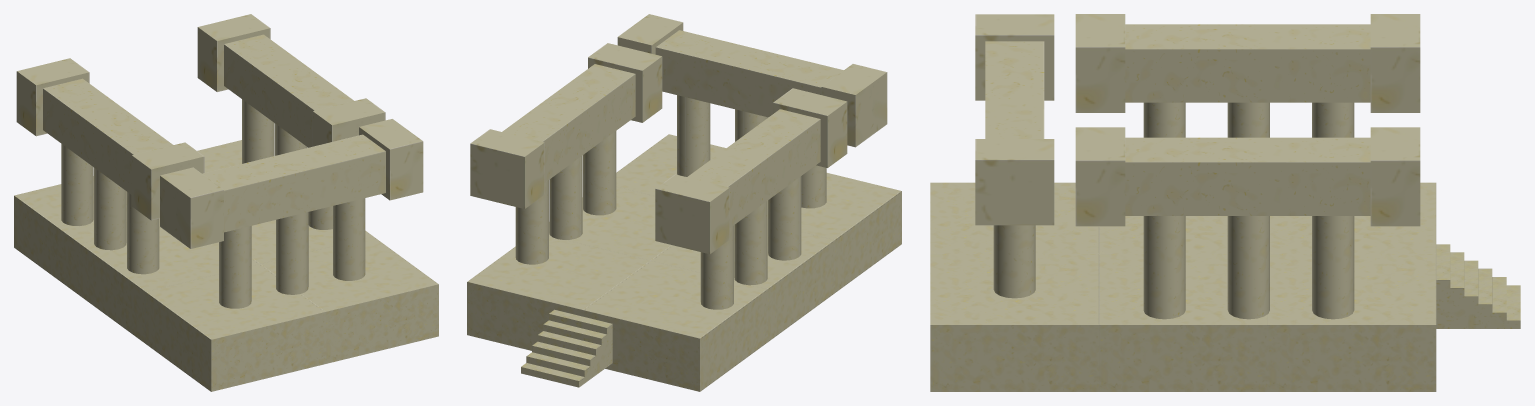
3 renders of one model, left to right at view 1: azimuth 30°, elevation 25°; view 2: azimuth 150°, elevation 25°; view 3: azimuth 270°, elevation 25°, orthographic. The views are drawn at different scales.
Visible parts, largest first — view 1: CombinedMesh; view 2: CombinedMesh; view 3: CombinedMesh.
Part boxes in pixels (x1,y1,x2,y2): CombinedMesh: (14, 14, 438, 391); CombinedMesh: (467, 14, 901, 391); CombinedMesh: (930, 14, 1520, 391).
Bounding box in the file's own units: 8.23 × 6.11 × 14.
2 materials, 2 textured.
